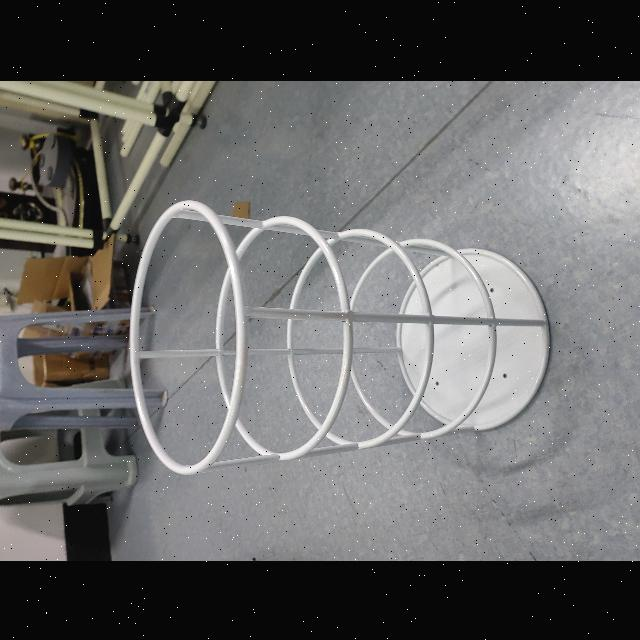S: (122, 194, 558, 480)
